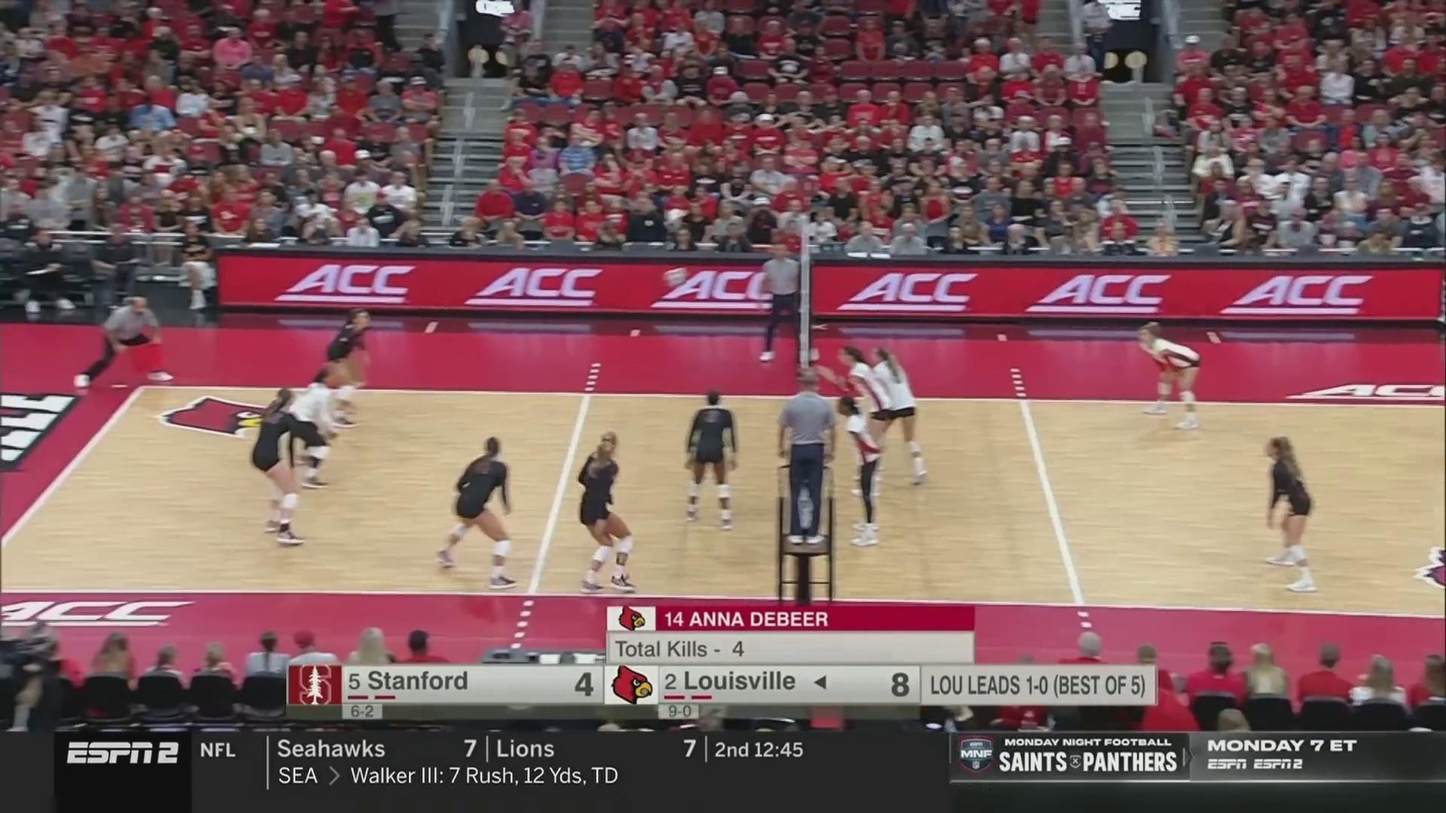player: (438, 437, 520, 586), (577, 432, 640, 591), (831, 342, 893, 501), (271, 364, 349, 488), (253, 391, 309, 552), (867, 346, 930, 489), (1264, 438, 1321, 592), (683, 391, 743, 524), (1131, 326, 1207, 428), (837, 397, 882, 548), (319, 309, 375, 427)
refree: (781, 370, 837, 547), (82, 296, 171, 390), (762, 239, 809, 365)
